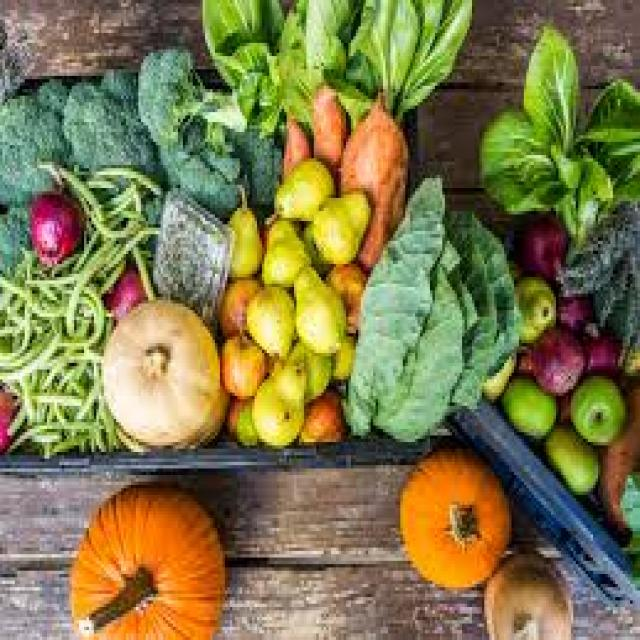organic waste: (341, 168, 514, 442), (477, 23, 637, 248), (70, 478, 228, 637), (301, 0, 469, 115), (99, 294, 222, 446), (396, 439, 512, 587), (200, 0, 309, 129), (551, 198, 638, 340), (336, 86, 405, 260), (59, 66, 163, 181), (146, 181, 232, 317), (136, 43, 247, 142), (158, 112, 247, 211), (0, 76, 67, 201), (516, 23, 578, 152), (482, 548, 568, 636), (600, 376, 638, 528), (0, 330, 99, 386), (299, 184, 368, 260), (47, 363, 104, 449), (257, 155, 331, 218), (225, 122, 282, 201), (252, 360, 304, 442), (292, 264, 341, 350), (502, 211, 566, 274), (541, 422, 598, 492), (566, 373, 623, 442), (270, 330, 326, 399), (27, 191, 82, 261), (499, 373, 556, 439), (40, 158, 102, 218), (84, 178, 146, 238), (27, 300, 106, 346), (225, 178, 262, 274), (245, 284, 294, 356), (529, 324, 583, 389), (309, 79, 346, 172), (257, 218, 309, 284), (84, 221, 148, 271), (512, 270, 554, 346), (30, 258, 106, 300), (309, 194, 356, 260), (7, 376, 47, 452), (220, 330, 264, 396), (0, 244, 27, 350), (321, 260, 363, 326), (82, 162, 158, 198), (101, 240, 151, 294), (296, 386, 344, 439), (215, 274, 257, 333), (616, 468, 638, 574), (104, 264, 148, 317), (586, 327, 625, 386), (551, 280, 593, 324), (0, 204, 27, 270), (479, 346, 512, 399), (282, 112, 306, 178), (225, 396, 254, 445), (328, 330, 356, 379), (0, 382, 15, 448), (616, 340, 638, 376), (554, 390, 568, 422)
